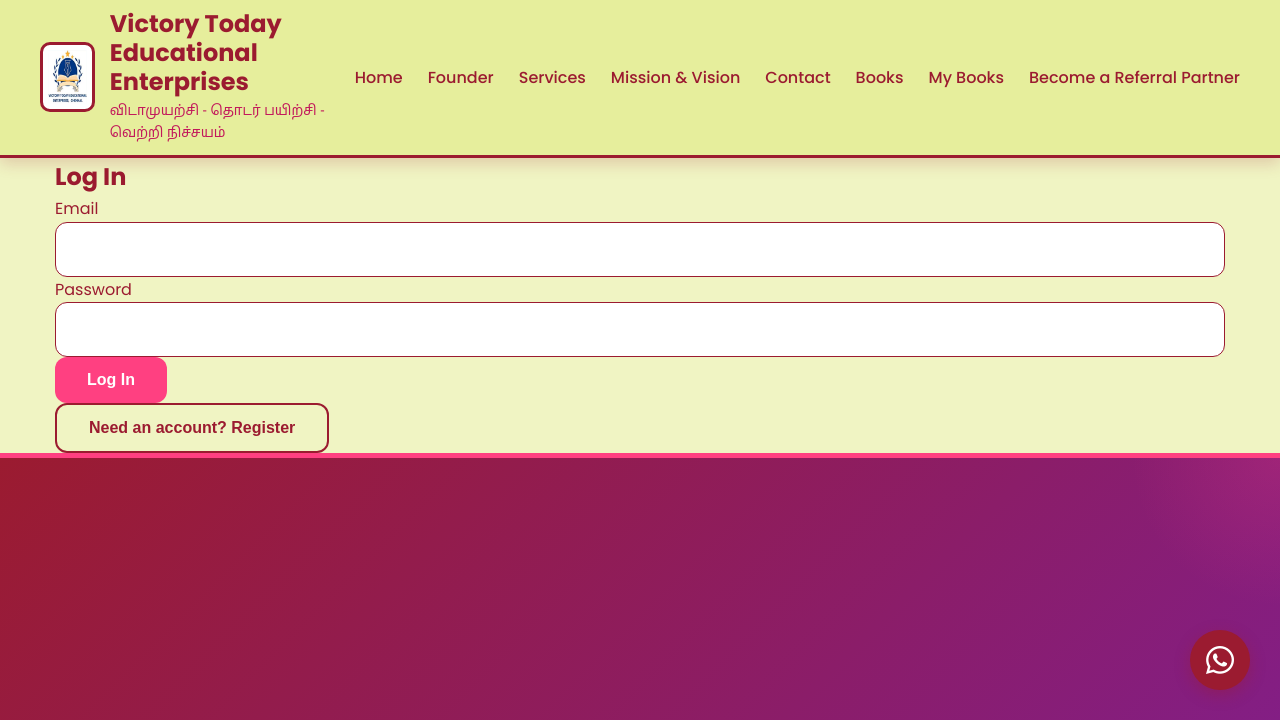
Test: logging in with real backend credentials sets customerEmail and shows the order list
Type "jane@example.com" into the field labelled "Email".
click(640, 249); type("jane@example.com")  # box [55, 222, 1225, 277]
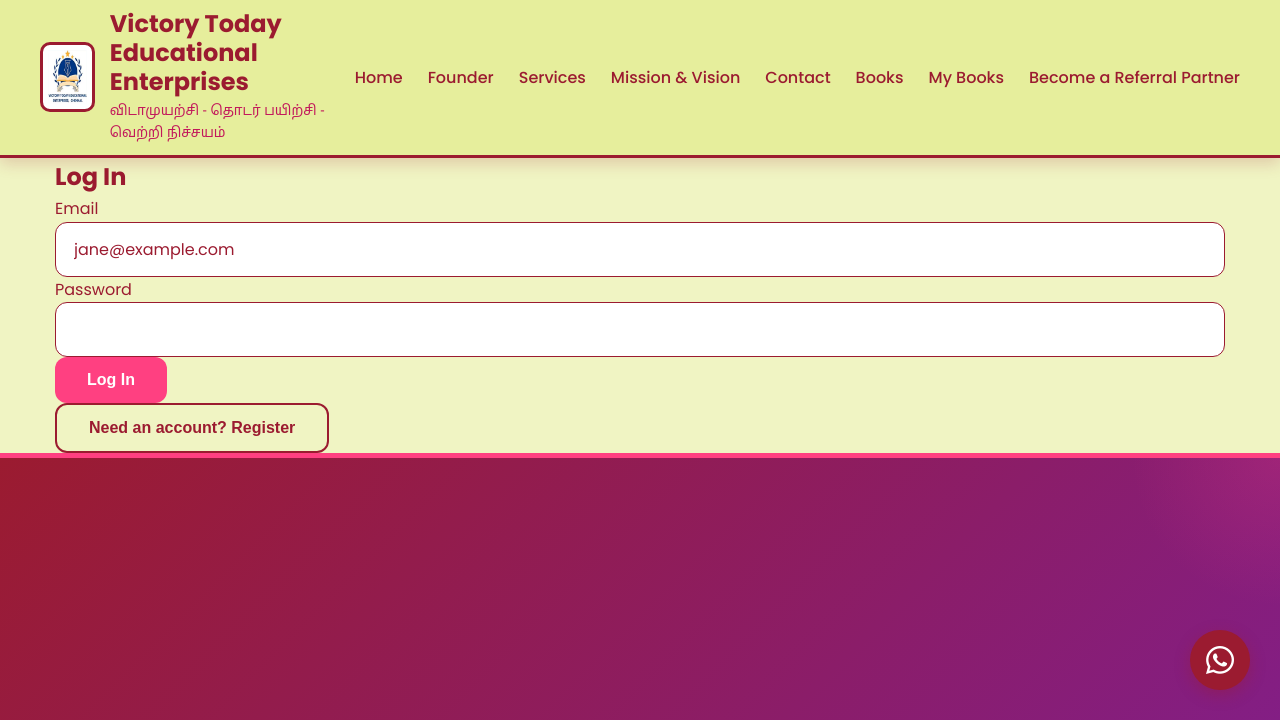
Type "password123" into the password field labelled "Password".
click(640, 330); type("password123")  # box [55, 302, 1225, 358]
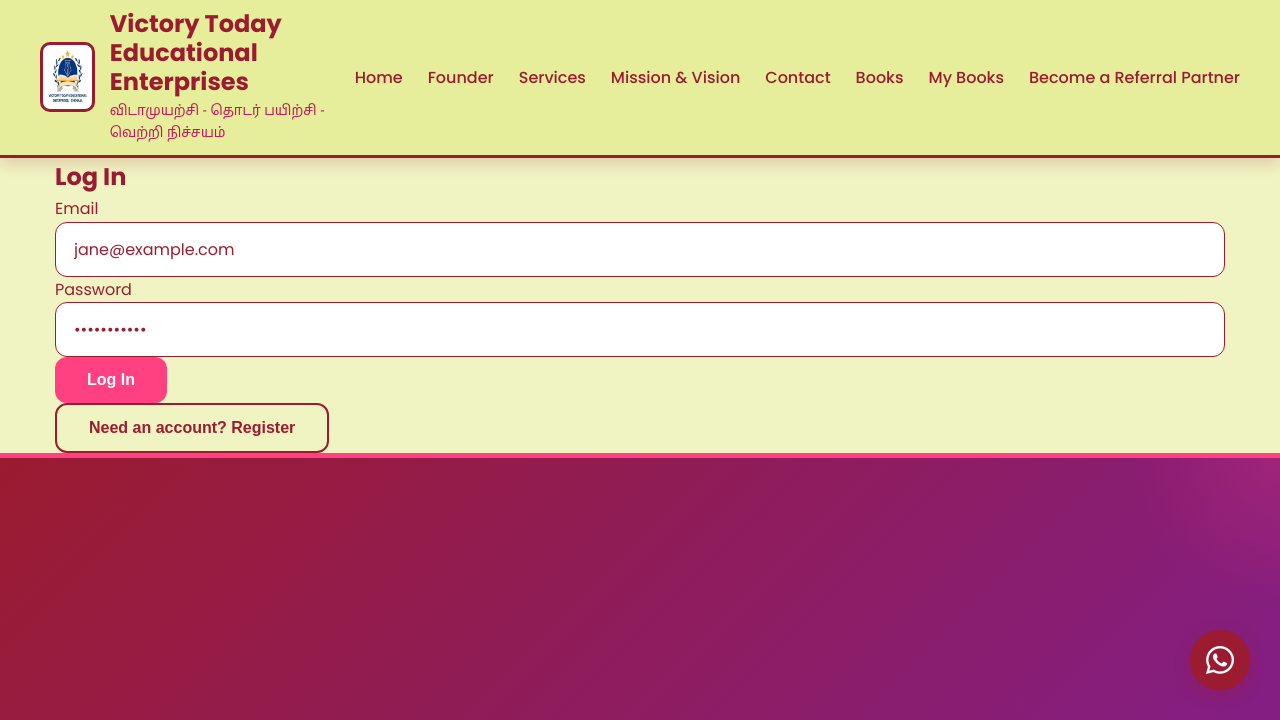
Click the button "Log In".
click(111, 380)  # box [55, 358, 167, 404]
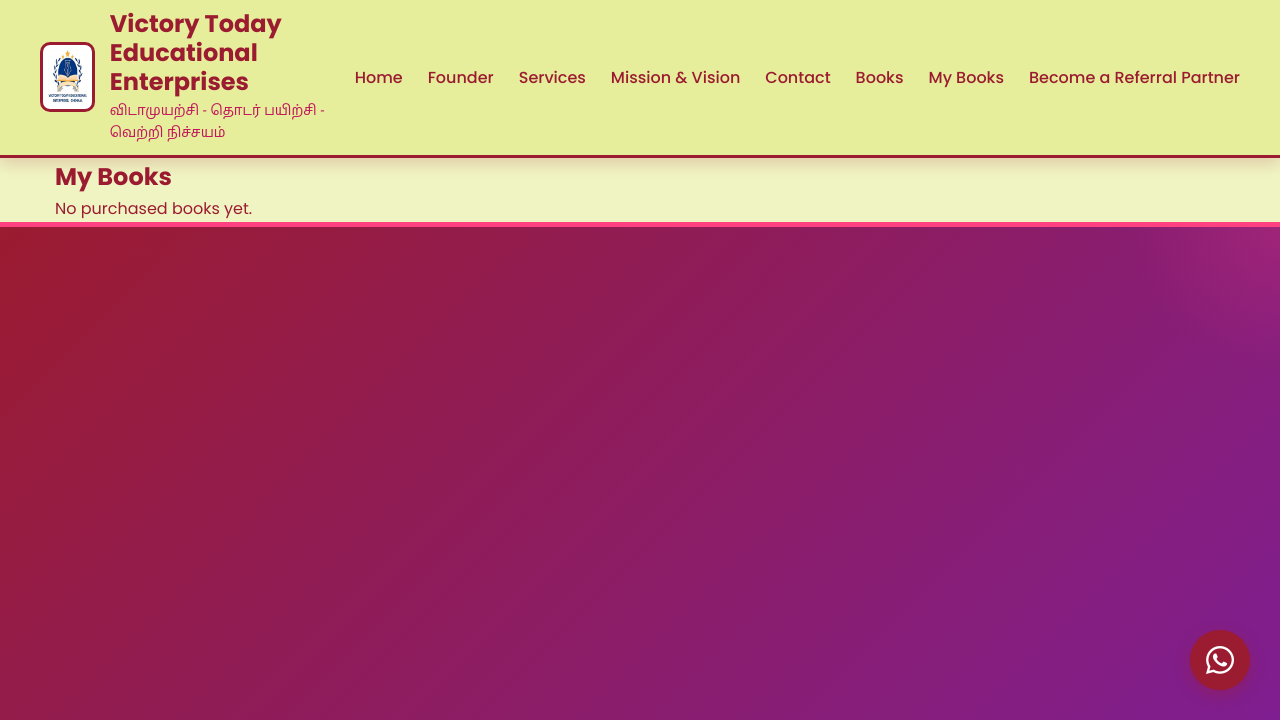
Result: the text "No purchased books yet." is shown at [55, 197, 252, 220]
